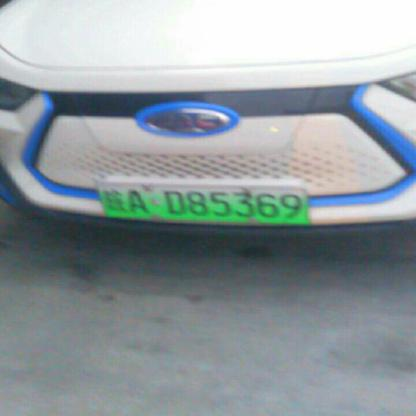lp: (96, 180, 310, 223)
